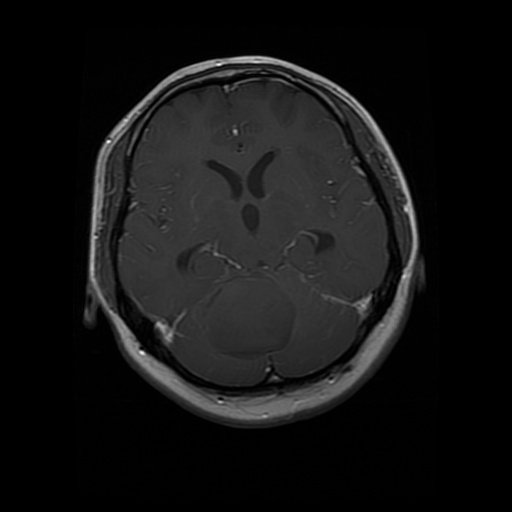glioma: (208, 275, 286, 355)
